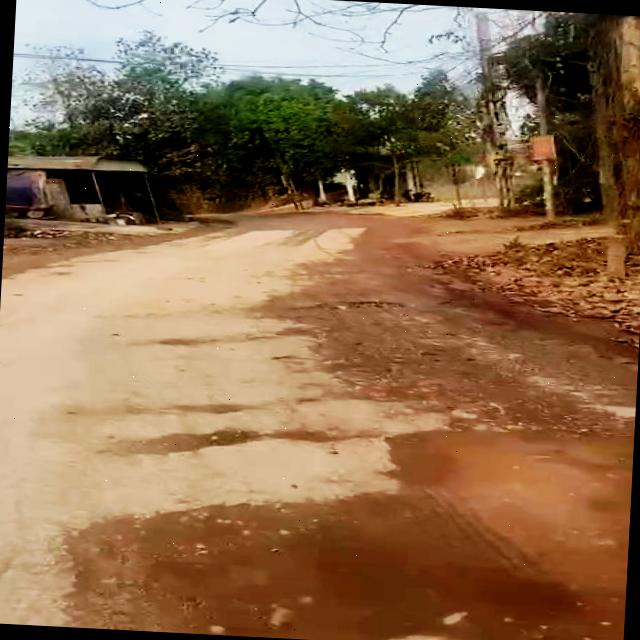pothole: (56, 388, 635, 640)
